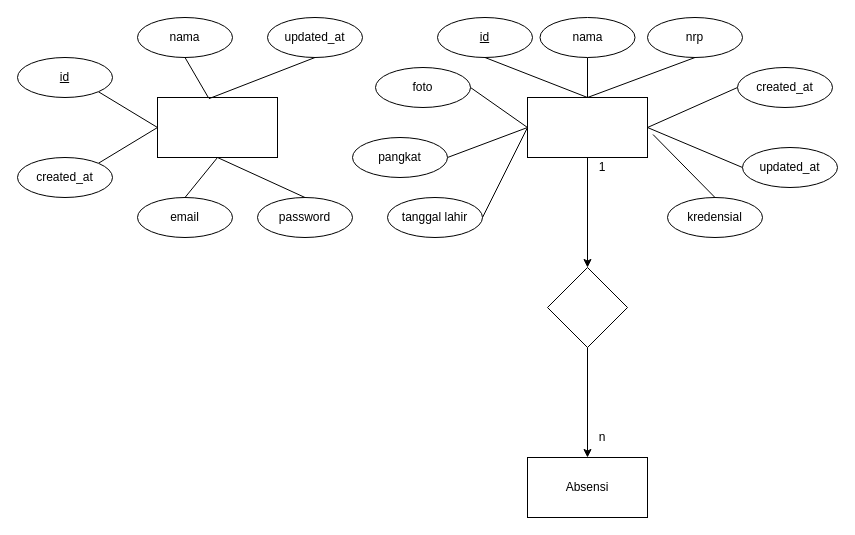
Some shapes in this 855 by 535 pixel diagram are drawn without their labels. Each missing label, with the centre of its shape:
"Anggota" belongs at (587,127).
"Melakukan" belongs at (587,307).
"Pengguna" belongs at (217,127).
